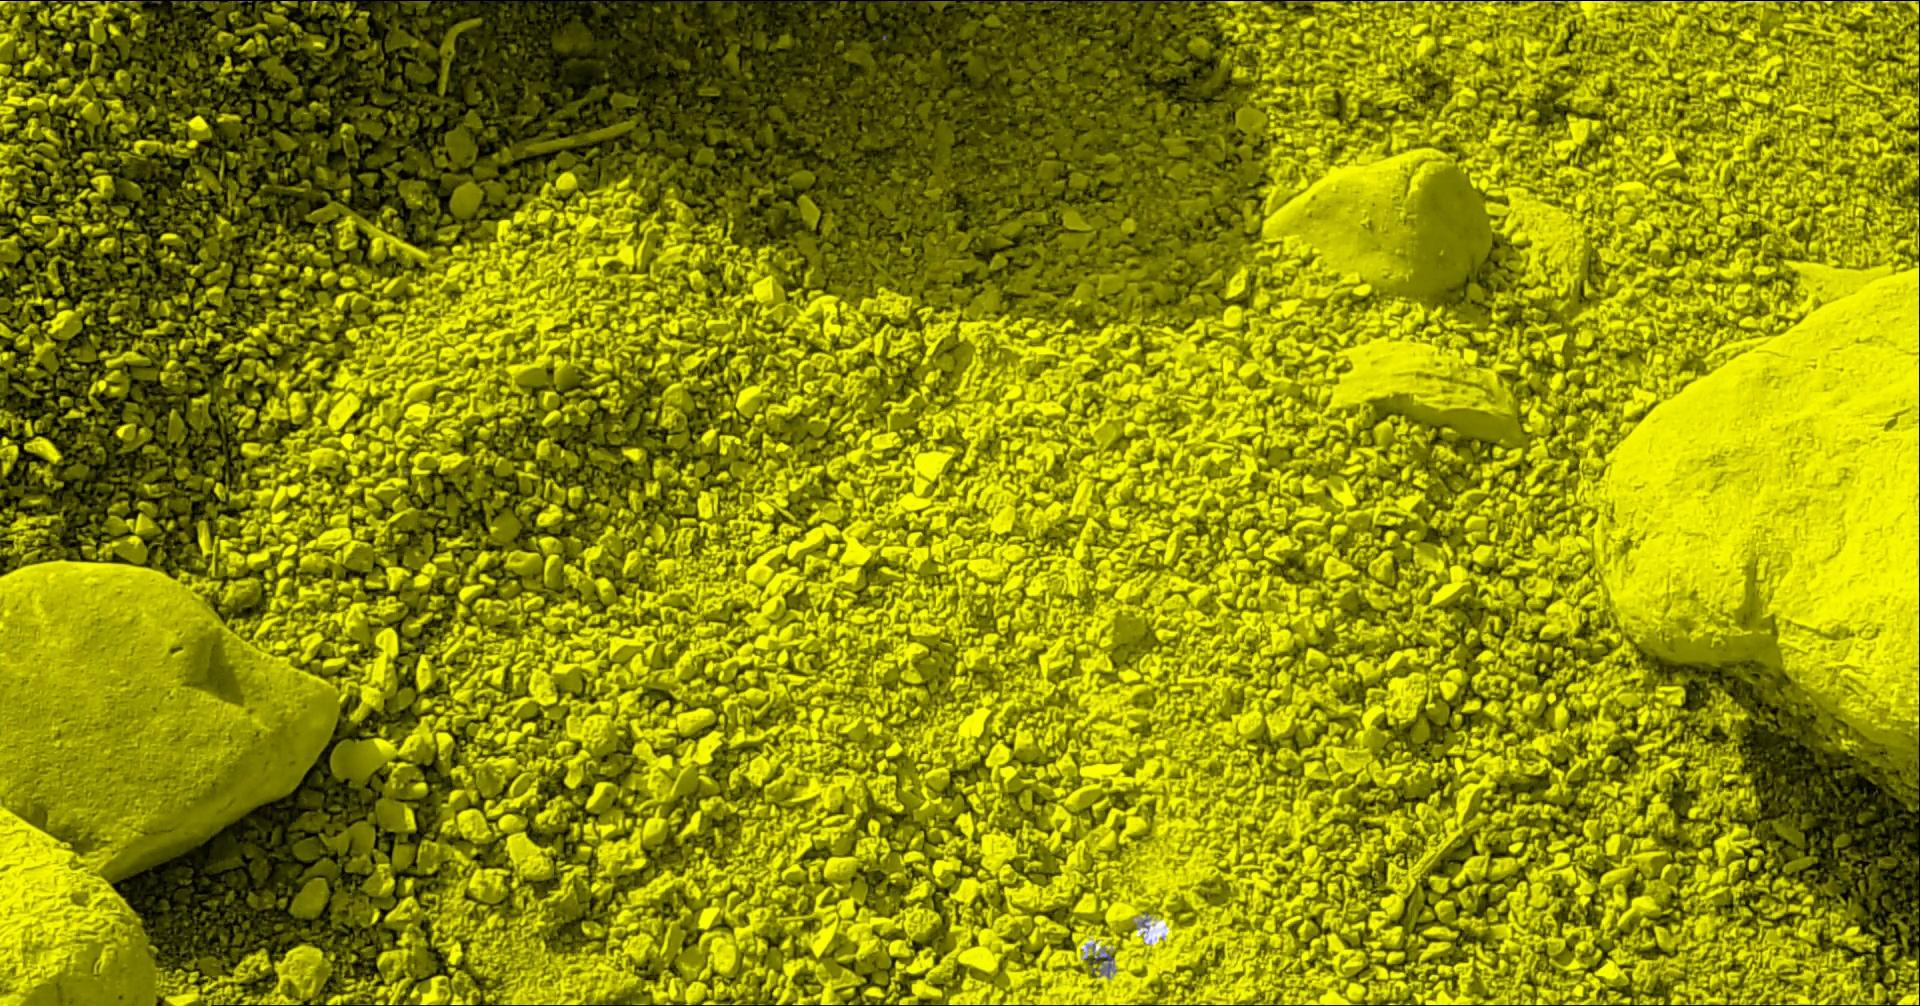ant: (1088, 955, 1112, 974), (1163, 0, 1215, 1)
